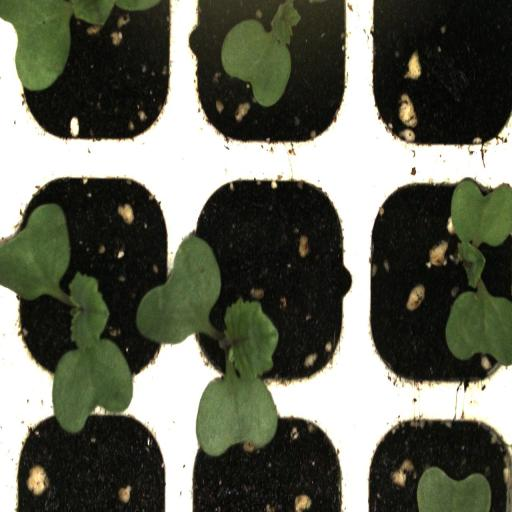Folha: (0, 0, 160, 92), (196, 300, 279, 458), (136, 234, 221, 345), (220, 0, 306, 108)
Germinacao: (179, 156, 361, 397), (2, 157, 182, 398), (359, 155, 512, 402)
